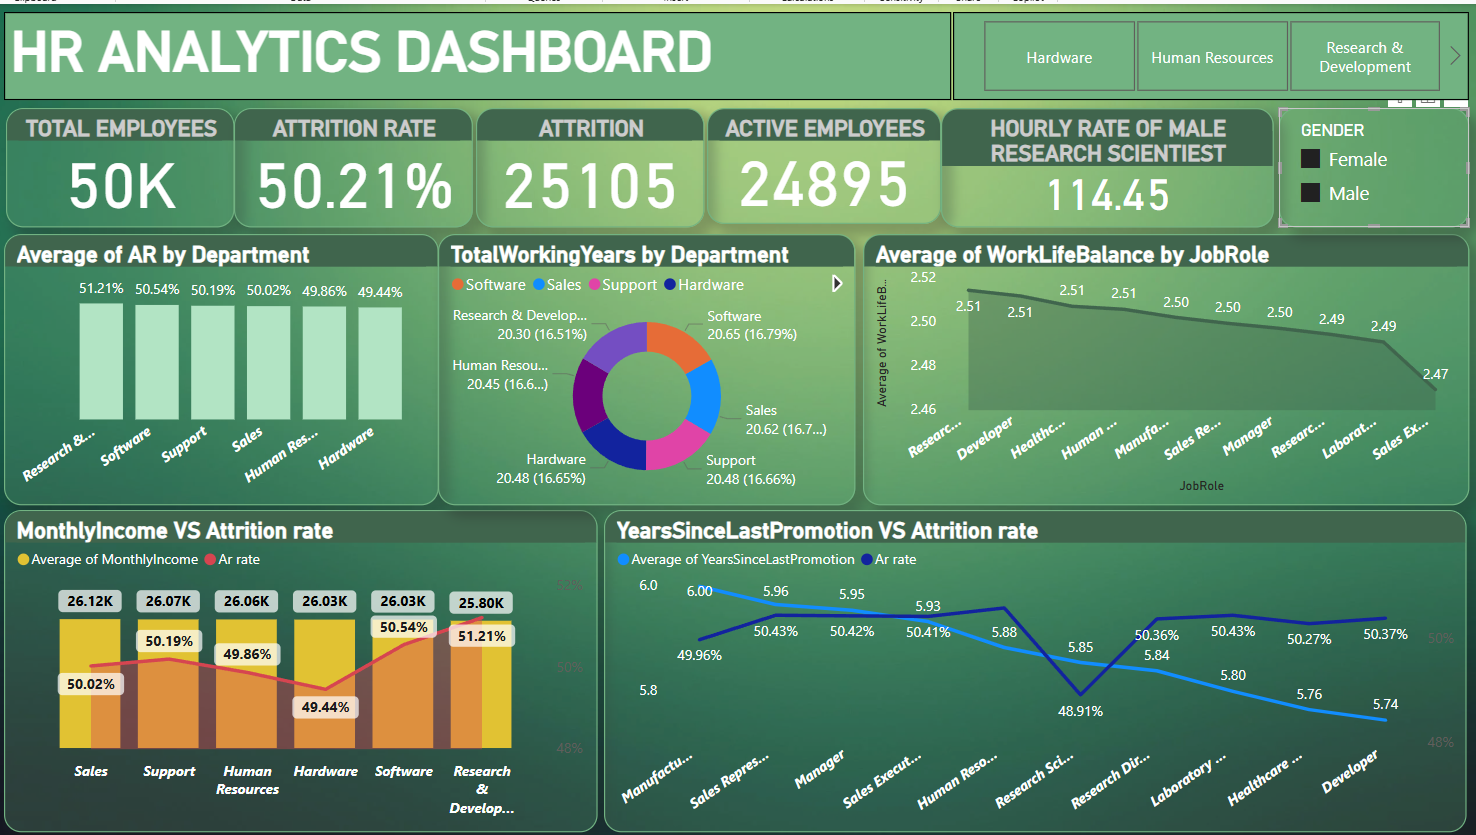

This screenshot's page, from the dashboard's own definition file:
{"tool":"tableau","page":{"name":"Dashboard 1","canvas":[1000,1000],"units":"permille","ordinal":0},"visuals":[{"type":"image","param":"Image/Slide4.PNG","box":[4.7,8.8,990.6,982.3]},{"type":"text","box":[48,19.9,533.1,74.1]},{"type":"filter","title":"KPI 1","param":"[federated.0gqvzi80anlmew12rq1me12a2xwr].[none:Department:nk]","box":[824.5,22.1,128.2,73]},{"type":"worksheet","title":"KPI 2","mark":"Automatic","rows":["HourlyRate"],"cols":["Gender","JobRole"],"box":[832.6,108.4,121.1,152.7]},{"type":"worksheet","title":"KPIS","mark":"Automatic","box":[49.1,113.9,773.6,141.6]},{"type":"worksheet","title":"KPI 1","mark":"Automatic","rows":["Department"],"cols":["AR"],"box":[46.8,273.2,266.8,404.9]},{"type":"worksheet","title":"KPI 3","mark":"Automatic","rows":["Department"],"cols":["AR","Calculation_1502232008578183169","MonthlyIncome"],"box":[318.9,273.2,321.2,403.8]},{"type":"worksheet","title":"KPI 6","mark":"Automatic","cols":["Department"],"box":[646,273.2,307.8,404.9]},{"type":"worksheet","title":"KPI 4","mark":"Circle","box":[46.2,689.2,254,288.7]},{"type":"worksheet","title":"KPI 5","mark":"Automatic","box":[306.6,692.5,647.2,286.5]}]}

Visuals, with their boxes on the dashboard's canvas, which has no fixed pixel size, in thousandths of its width and height (x1, y1, x2, y2). These are canvas units, not pixel positions in the 1476x835 screenshot, which may show the page scaled, cropped or inside an application window:
image: box(5, 9, 995, 991)
text: box(48, 20, 581, 94)
"KPI 1" filter: box(824, 22, 953, 95)
"KPI 2" worksheet: box(833, 108, 954, 261)
"KPIS" worksheet: box(49, 114, 823, 256)
"KPI 1" worksheet: box(47, 273, 314, 678)
"KPI 3" worksheet: box(319, 273, 640, 677)
"KPI 6" worksheet: box(646, 273, 954, 678)
"KPI 4" worksheet (Circle marks): box(46, 689, 300, 978)
"KPI 5" worksheet: box(307, 692, 954, 979)
